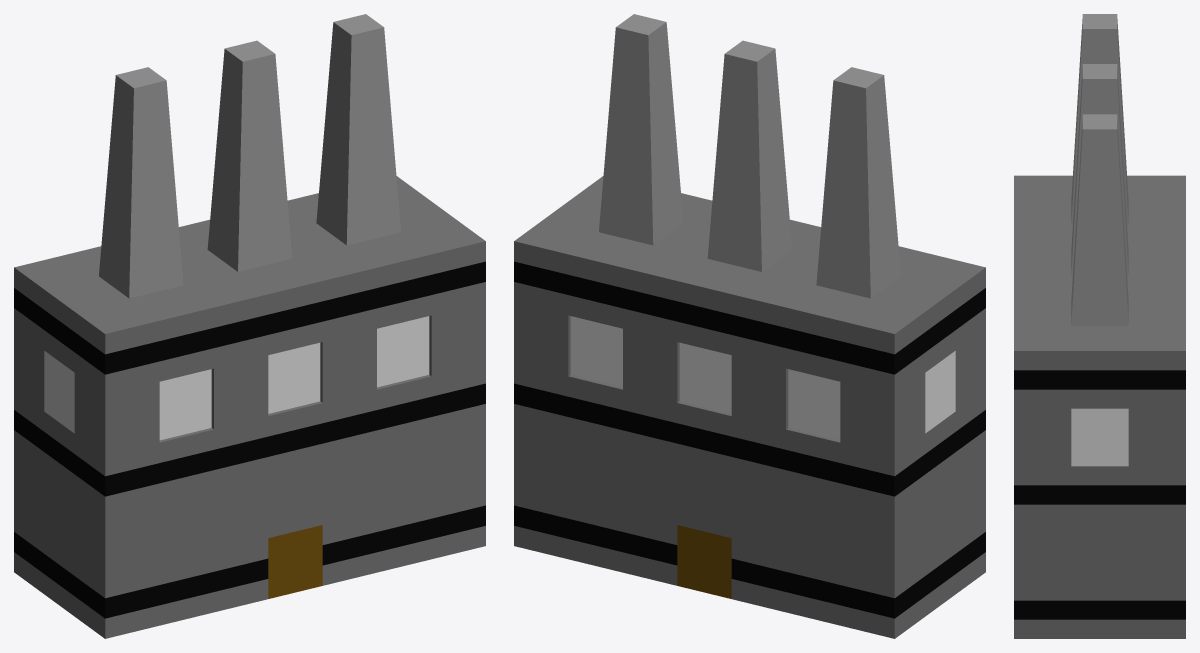
Rendered from Factory.fbx.
3 renders of one model, left to right at view 1: azimuth 30°, elevation 25°; view 2: azimuth 150°, elevation 25°; view 3: azimuth 270°, elevation 25°, orthographic. The views are drawn at different scales.
Parts seen in each view (by area): view 1: Cube; view 2: Cube; view 3: Cube.
Boxes of the visible parts, bbox=[...] form: Cube: bbox=[14, 14, 485, 638]; Cube: bbox=[514, 14, 985, 638]; Cube: bbox=[1014, 14, 1185, 638].
Bounding box in the file's own units: 483 × 615 × 200.
